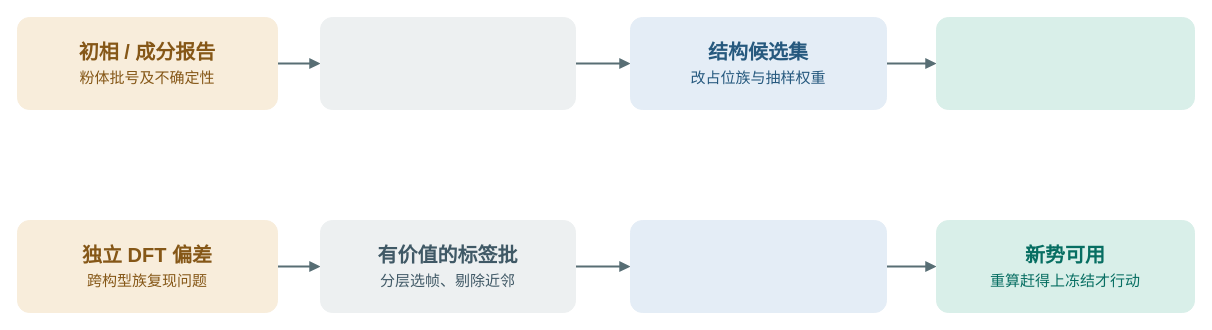
Some shapes in this 1212 by 330 pixel diagram are drawn without their labels. Here are the shapes that lost their labels. From the top down, the centre of each, then its label:
(448,63): 审核并发布 记录 qc_released_at
(1065,63): 补作业或保留 只动尚可调整的任务
(758,266): 训练与独立验收 检查目标改善与源域遗忘
